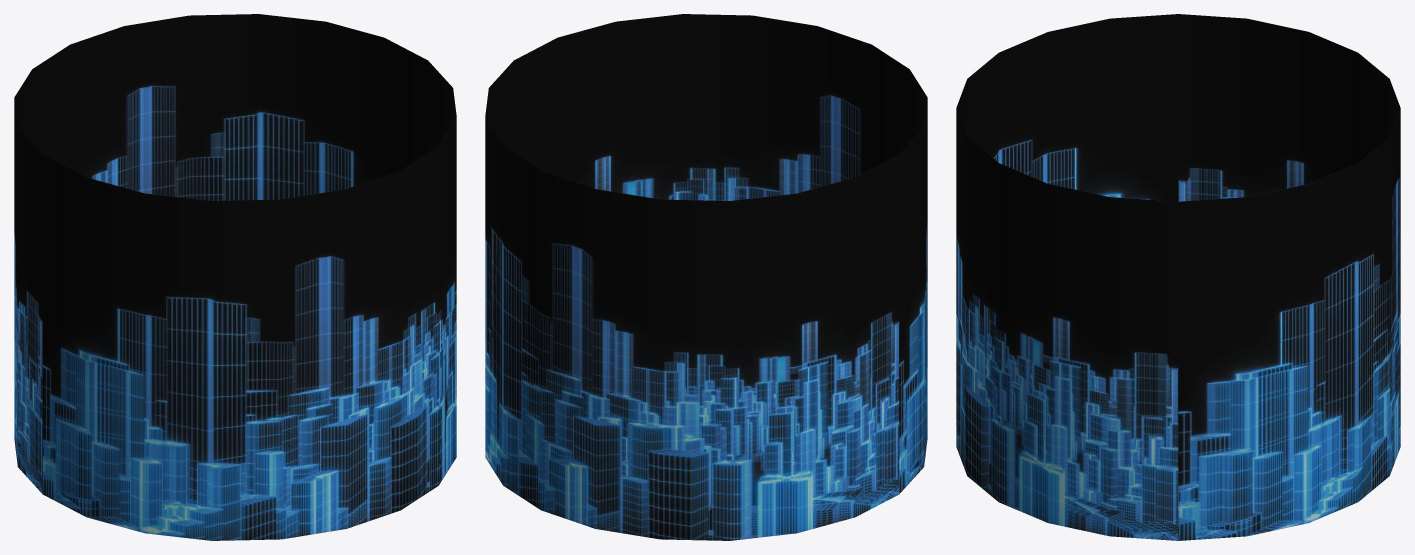
File: Hologram.fbx
3 views of the same model, side by side, from view 1: azimuth 30°, elevation 25°; view 2: azimuth 150°, elevation 25°; view 3: azimuth 270°, elevation 25° (orthographic).
Visible parts, largest first — view 1: Cylinder__2_; view 2: Cylinder__2_; view 3: Cylinder__2_.
Boxes of the visible parts, x1=… form: Cylinder__2_: x1=14, y1=14, x2=456, y2=540; Cylinder__2_: x1=485, y1=14, x2=927, y2=540; Cylinder__2_: x1=956, y1=14, x2=1400, y2=540.
Size of the model in its own units: 214 by 180 by 214.
Materials: 1 (1 with a texture image).
